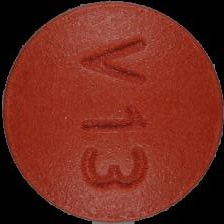68180-313: (0, 0, 224, 224)
